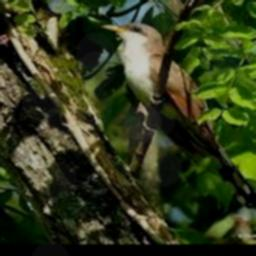Cuckoo: (101, 22, 256, 207)
